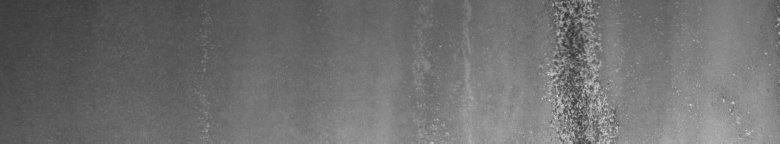hc: (538, 4, 624, 136)
